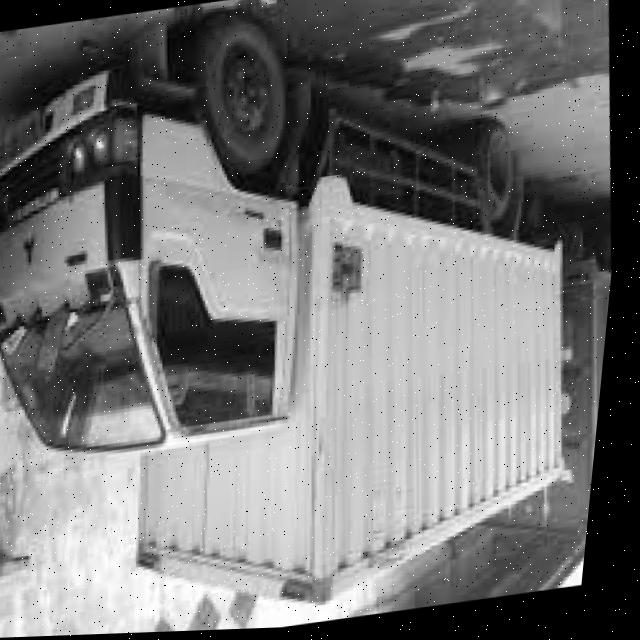truck: (1, 1, 395, 501)
